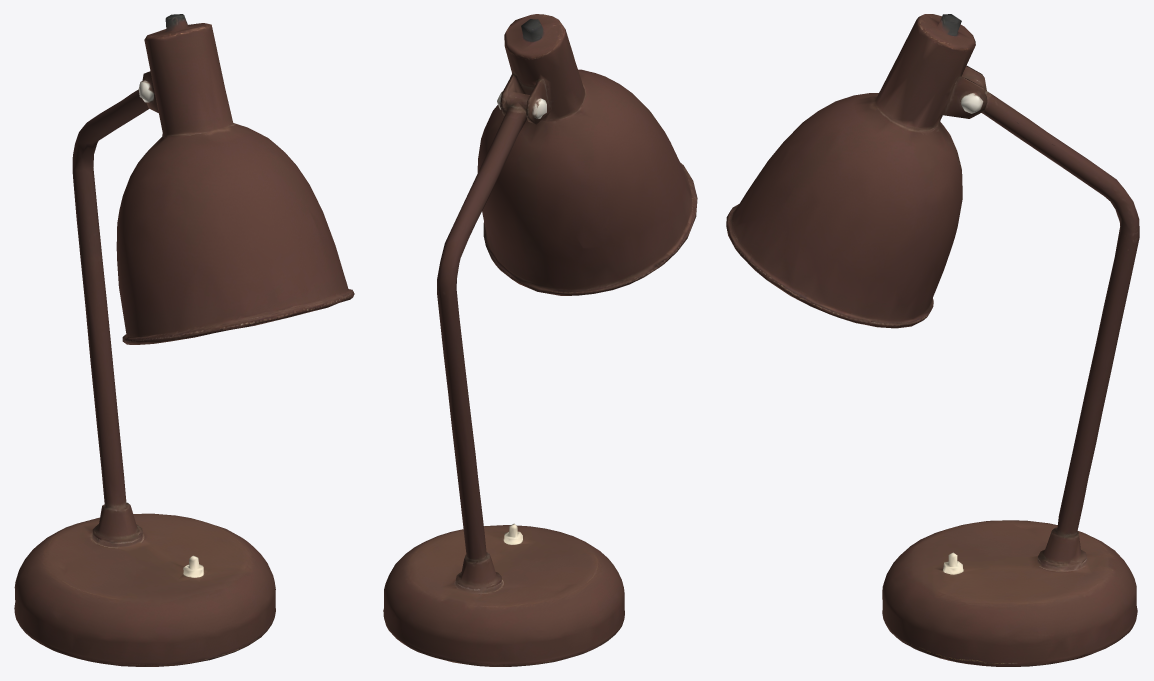
Rendered from lampada.glb.
3 renders of one model, left to right at view 1: azimuth 30°, elevation 25°; view 2: azimuth 150°, elevation 25°; view 3: azimuth 270°, elevation 25°, orthographic. The views are drawn at different scales.
Parts seen in each view (by area): view 1: tripo_node_64e4169e-c9e8-451c-9cf0-7a2a974b6eb9; view 2: tripo_node_64e4169e-c9e8-451c-9cf0-7a2a974b6eb9; view 3: tripo_node_64e4169e-c9e8-451c-9cf0-7a2a974b6eb9.
Boxes of the visible parts, left/top/right/bottom form: tripo_node_64e4169e-c9e8-451c-9cf0-7a2a974b6eb9: left=14, top=14, right=354, bottom=666; tripo_node_64e4169e-c9e8-451c-9cf0-7a2a974b6eb9: left=383, top=14, right=697, bottom=666; tripo_node_64e4169e-c9e8-451c-9cf0-7a2a974b6eb9: left=726, top=14, right=1139, bottom=666.
Size of the model in its own units: 0.1713 by 0.45 by 0.2814.
Materials: 1 (1 with a texture image).
